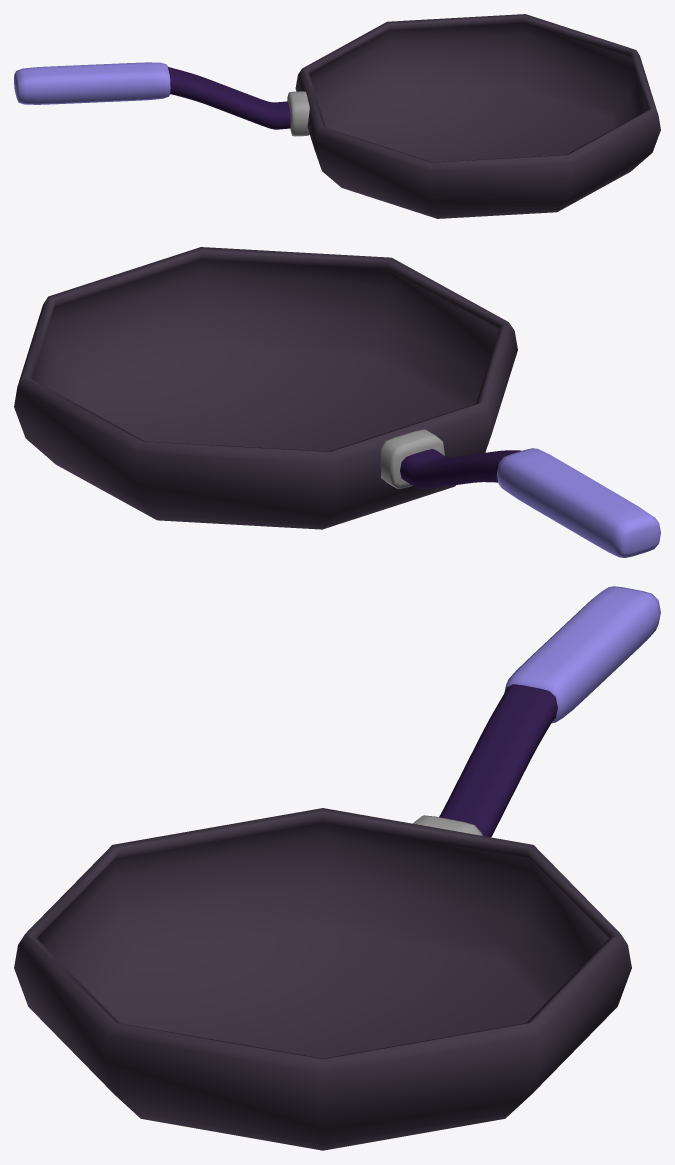
Rendered from Sarten.fbx.
3 renders of one model, top to bottom at view 1: azimuth 30°, elevation 25°; view 2: azimuth 150°, elevation 25°; view 3: azimuth 270°, elevation 25°, orthographic. The views are drawn at different scales.
Parts seen in each view (by area): view 1: Circle; view 2: Circle; view 3: Circle.
Boxes of the visible parts, bbox=[...] form: Circle: bbox=[14, 14, 660, 218]; Circle: bbox=[14, 247, 660, 557]; Circle: bbox=[14, 586, 660, 1150].
Size of the model in its own units: 2074 by 373 by 1325.
